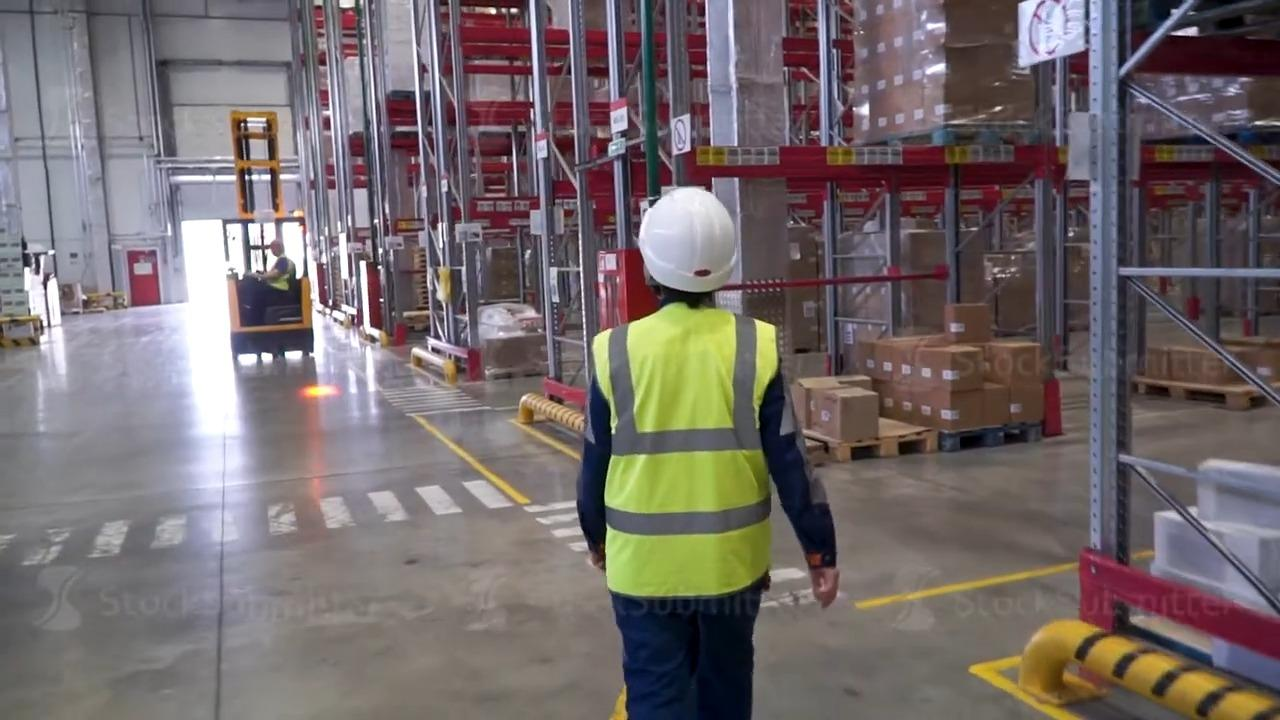helmet: (637, 187, 738, 294), (267, 237, 288, 251)
